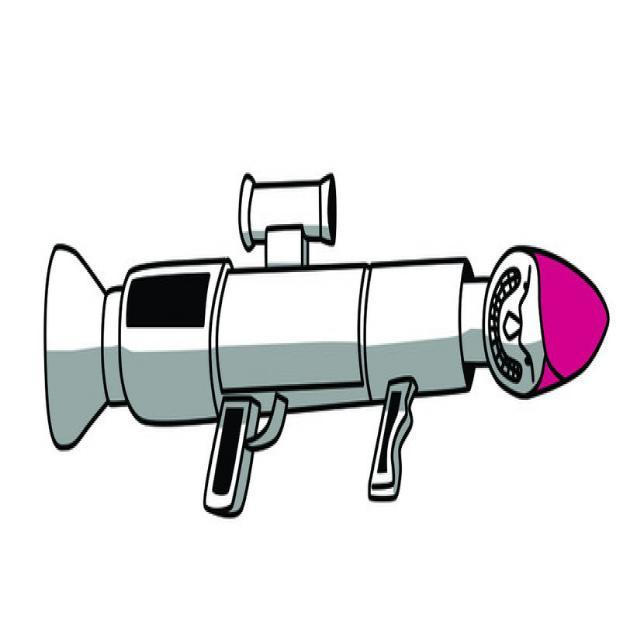rocket launcher: (41, 145, 616, 583)
